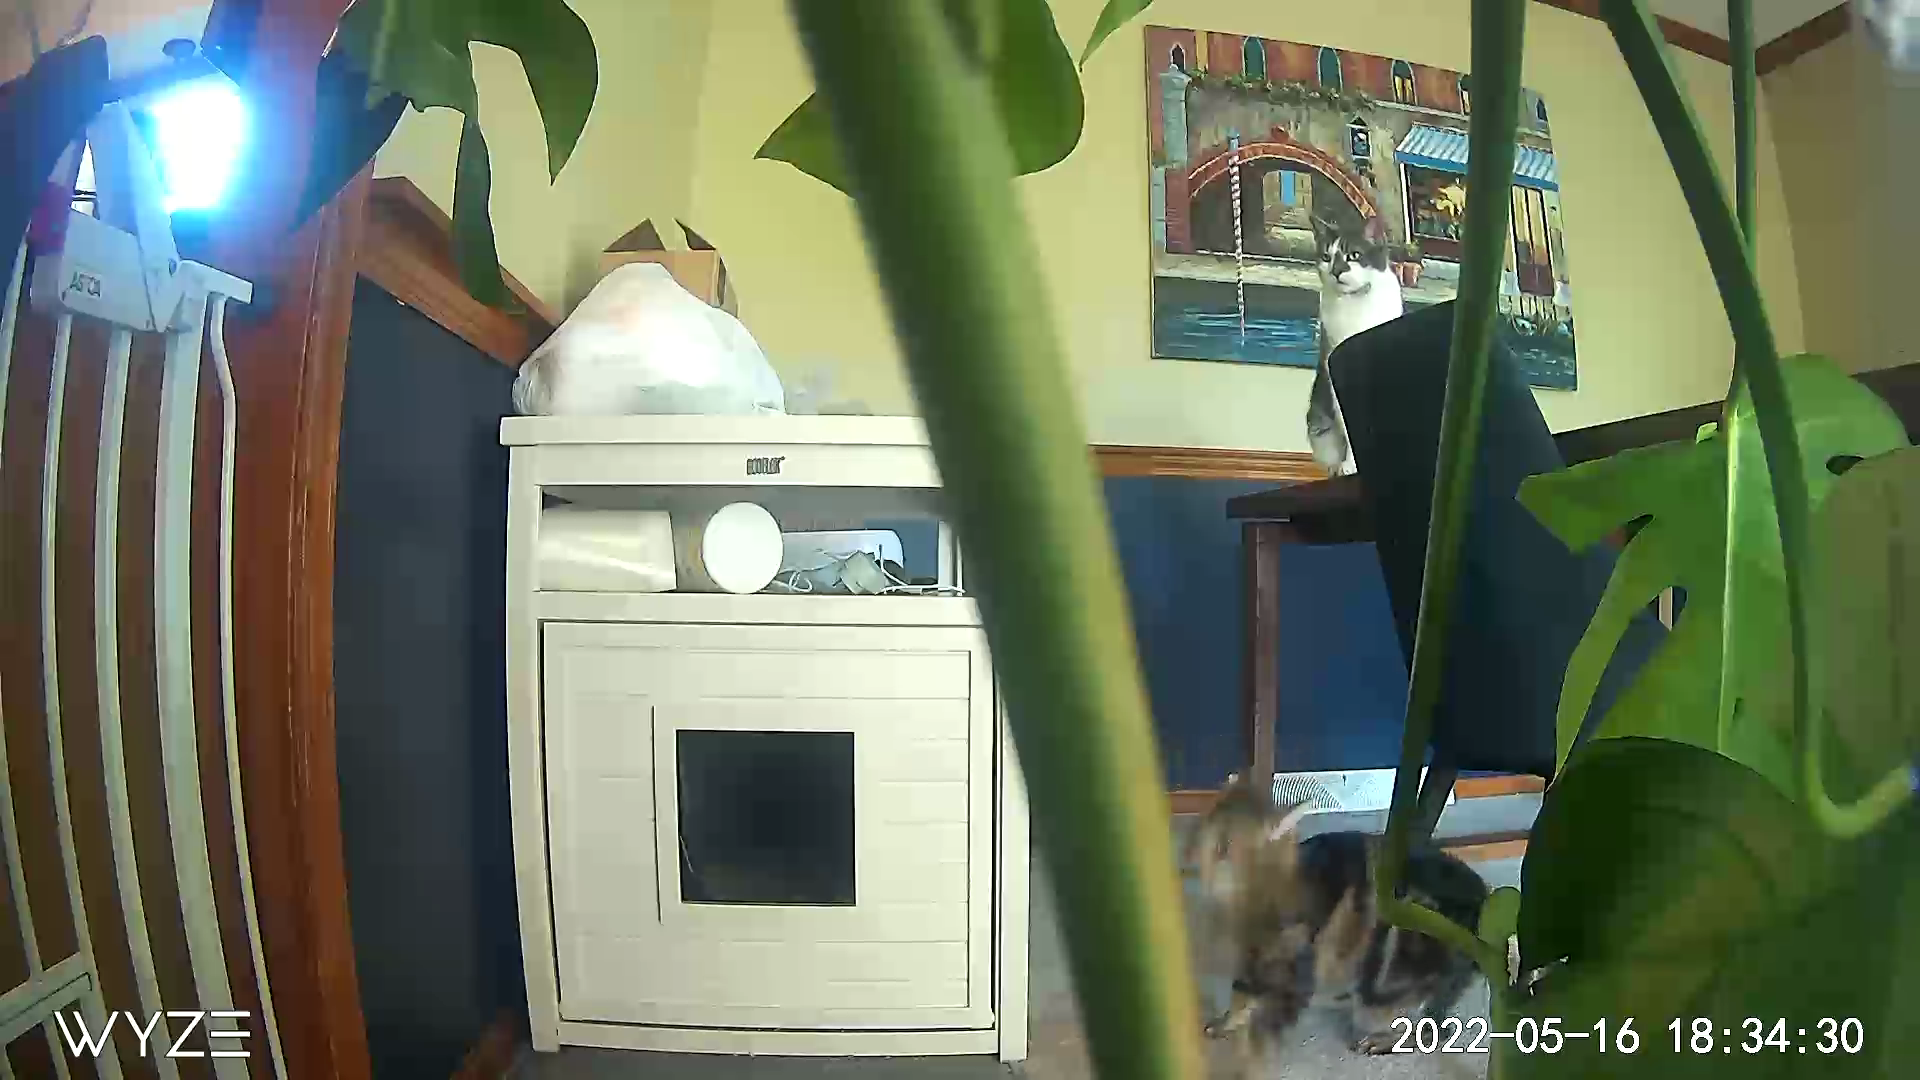sparky: (1174, 770, 1497, 981)
